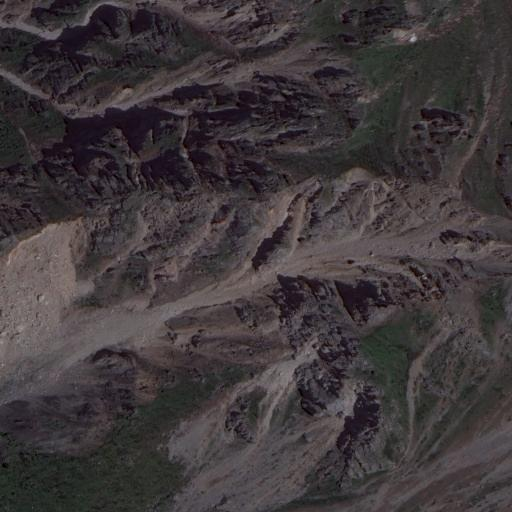landslide: (1, 216, 91, 352)
